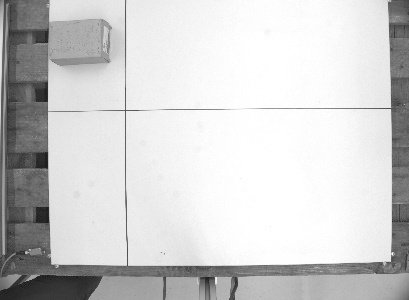b6: (44, 17, 113, 67)
